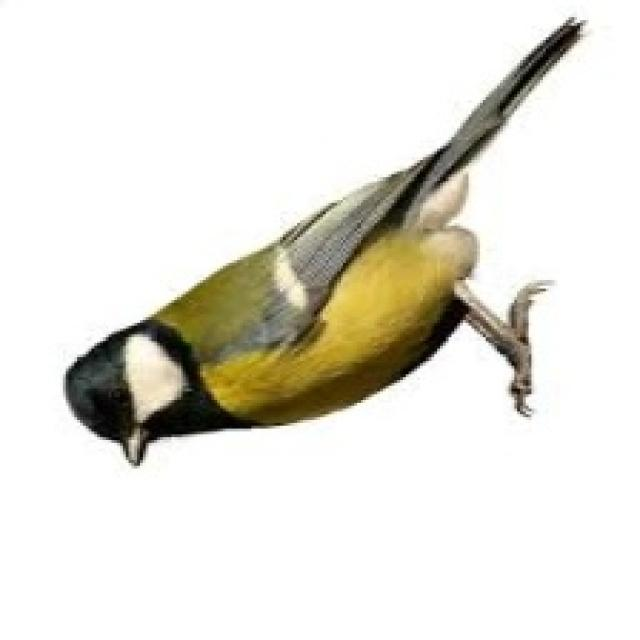animal: (44, 19, 592, 491)
